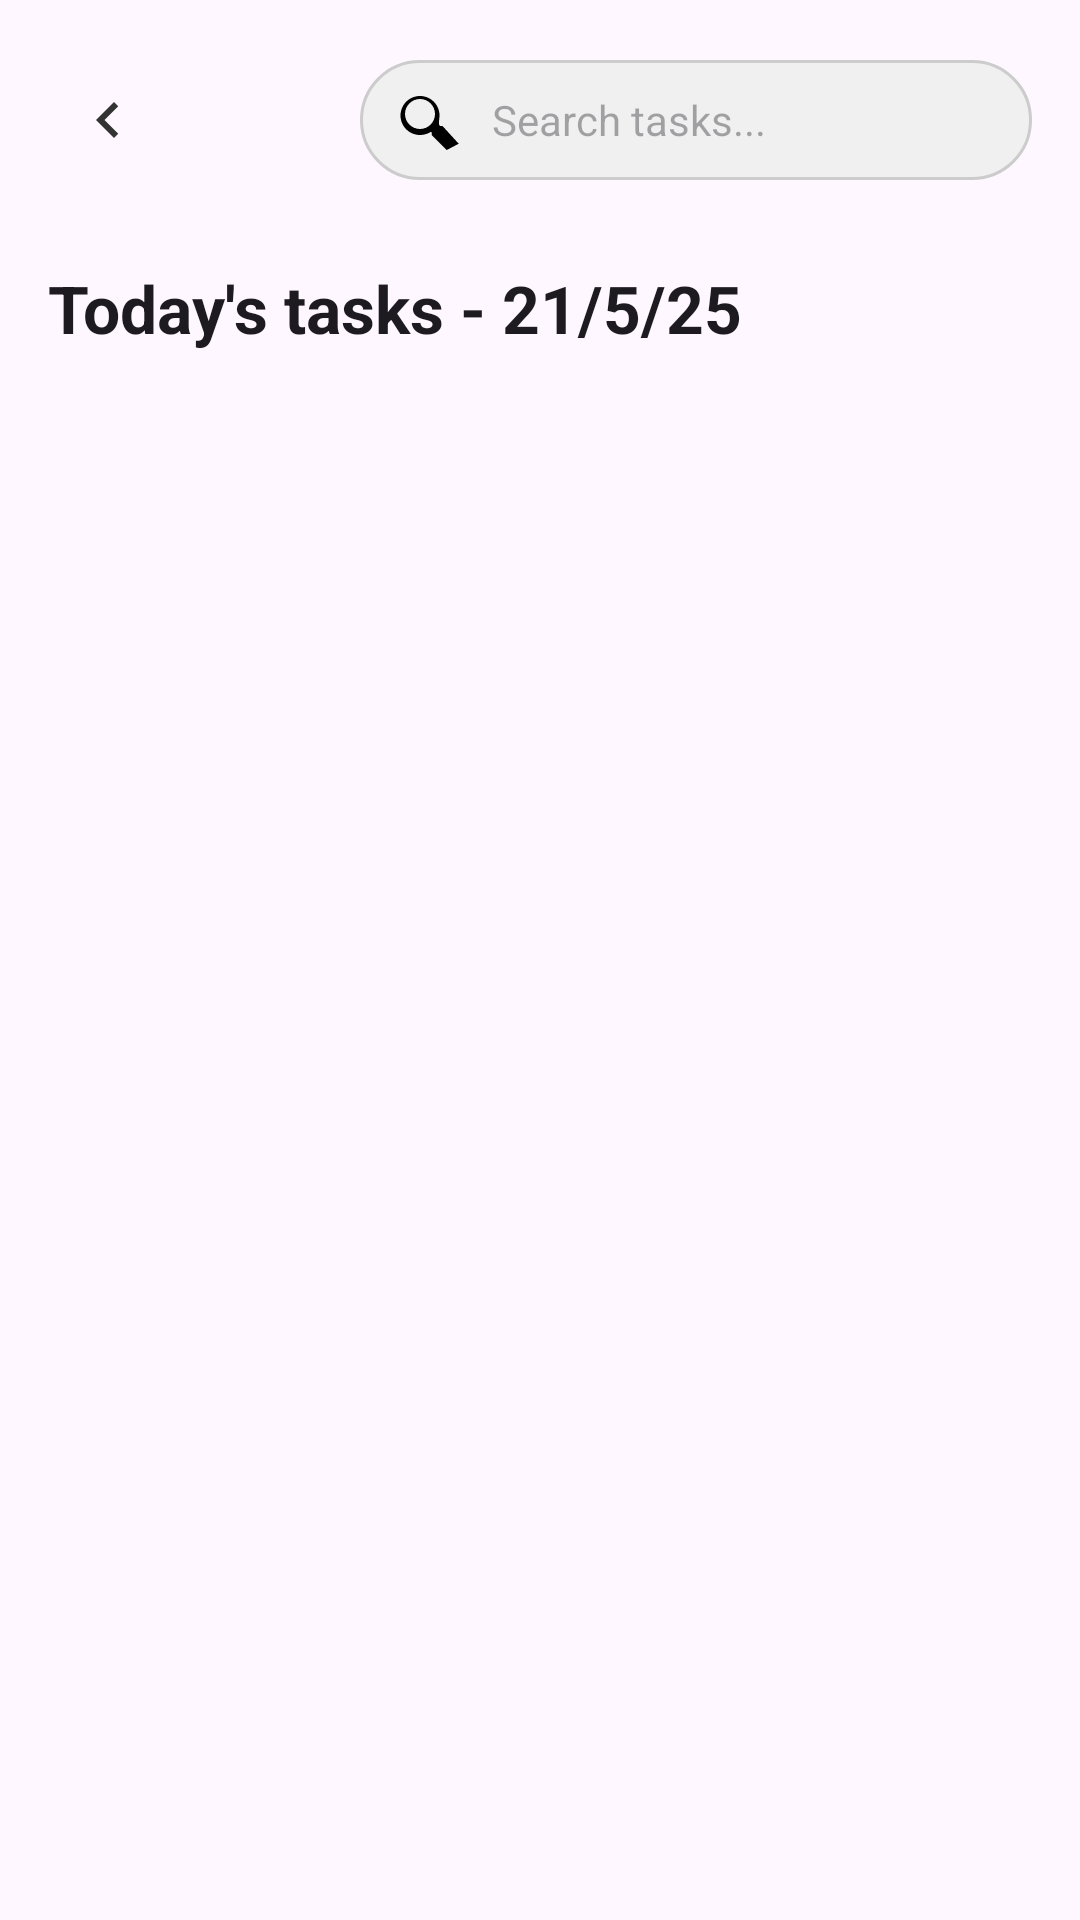

Locate icon controls on the screen. Image size 1080×1920, boxes as [left=x1, top=y1, right=x2, bottom=y2].
Back to Login: [left=96, top=102, right=118, bottom=138]
